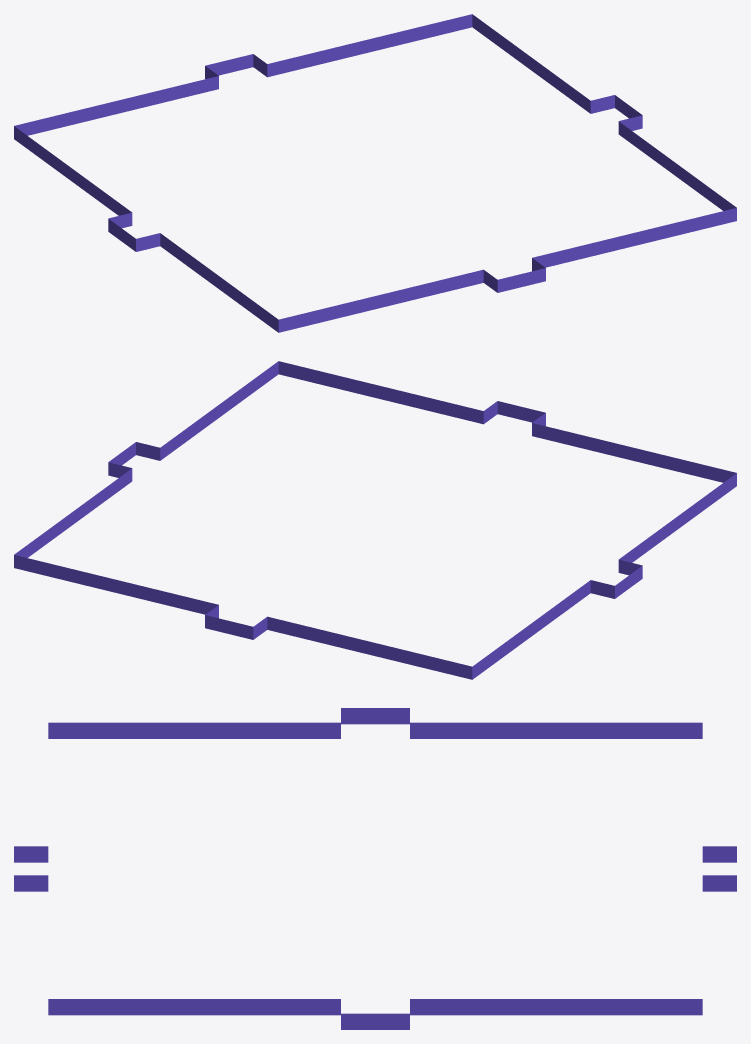
The model's file is Walls.glb.
3 renders of one model, top to bottom at view 1: azimuth 30°, elevation 25°; view 2: azimuth 150°, elevation 25°; view 3: azimuth 270°, elevation 25°, orthographic. The views are drawn at different scales.
Parts seen in each view (by area): view 1: Walls; view 2: Walls; view 3: Walls.
Part boxes in pixels (x1,y1,x2,y2): Walls: (14, 14, 736, 332); Walls: (14, 361, 736, 679); Walls: (14, 708, 736, 1029).
Size of the model in its own units: 40 by 1 by 40.
